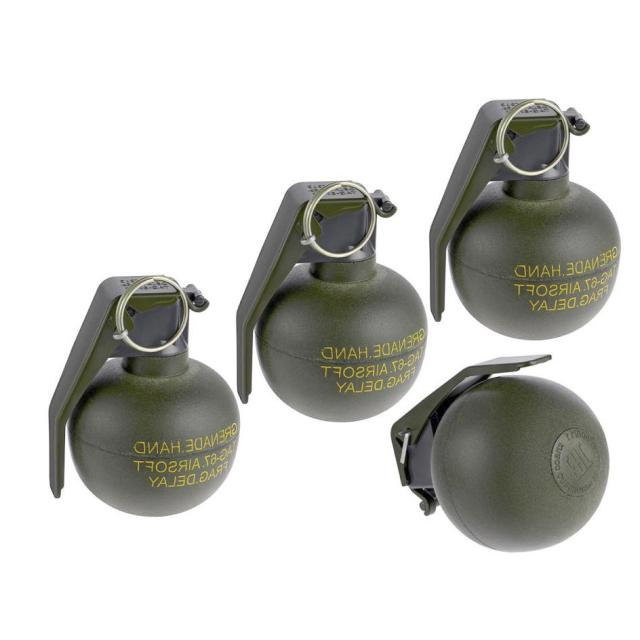grenade: (50, 275, 242, 519), (237, 182, 430, 421), (431, 100, 621, 340), (389, 357, 610, 553)
